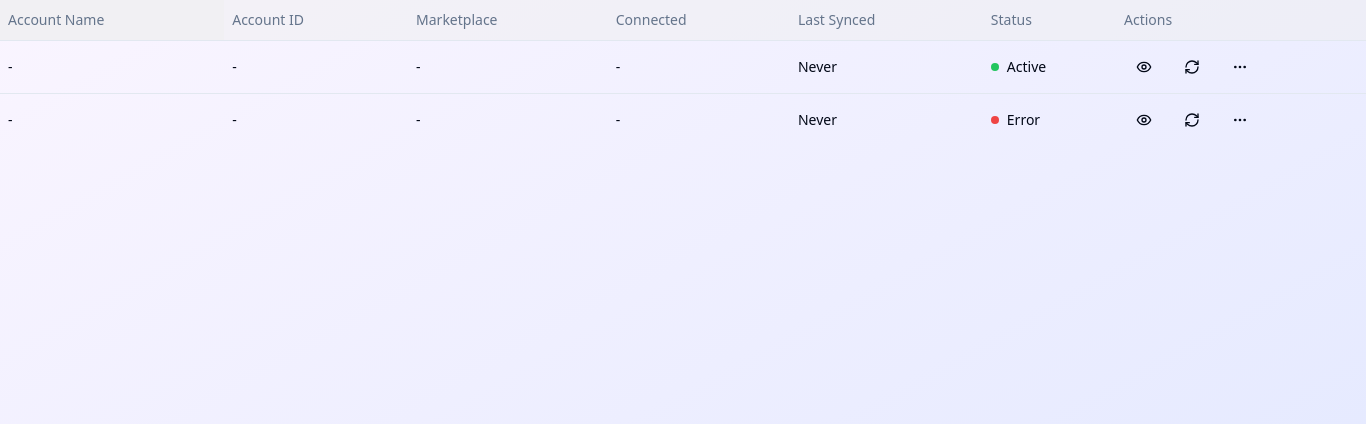
AccountTypeTable › Sorting › should show sort indicators
Click the text "Account Name": [56, 19] box [8, 10, 104, 29]
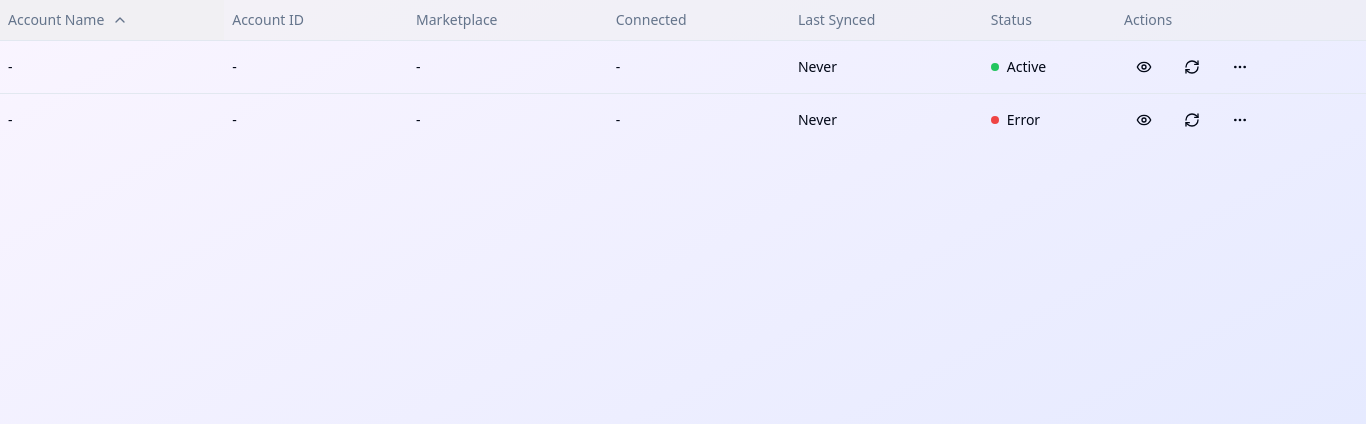
Result: the icon with test id "sort-asc" is shown at [112, 12, 128, 28]
Click the text "Account Name": [68, 19] box [8, 10, 128, 29]
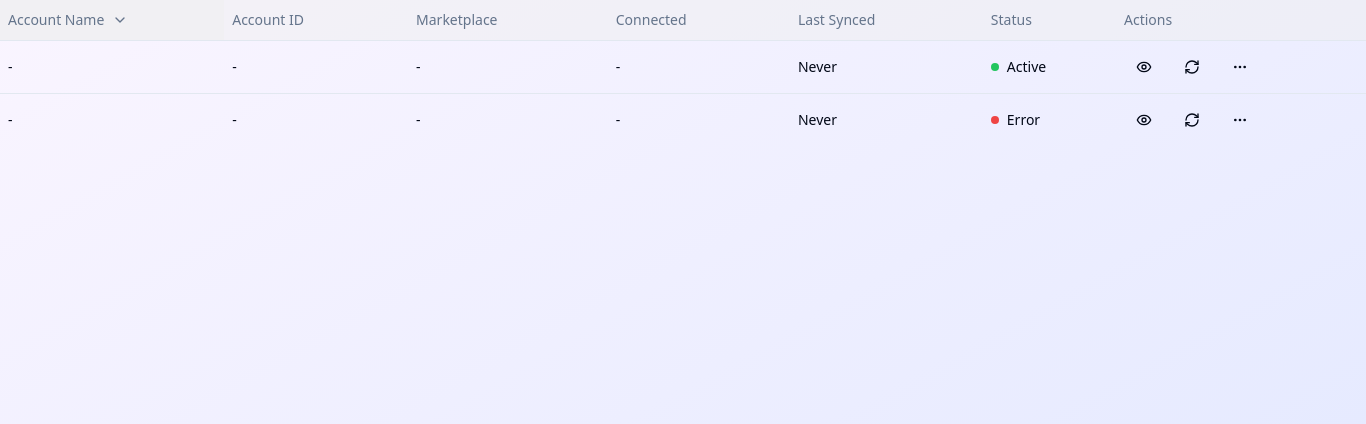
Result: the icon with test id "sort-desc" is shown at [112, 12, 128, 28]
